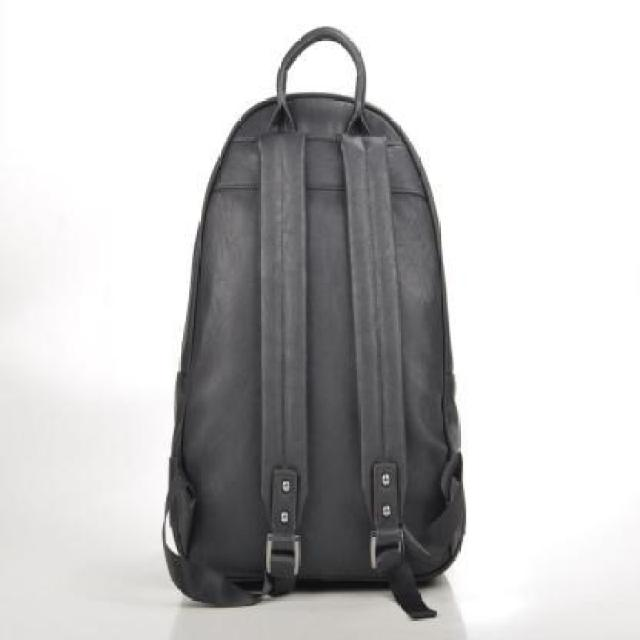backpack: (160, 21, 469, 624)
